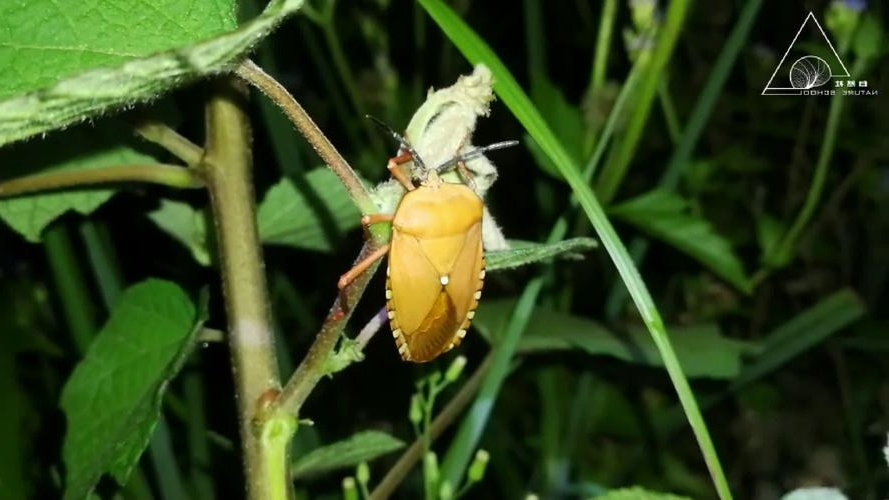Stink_Bug: (384, 145, 503, 362)
